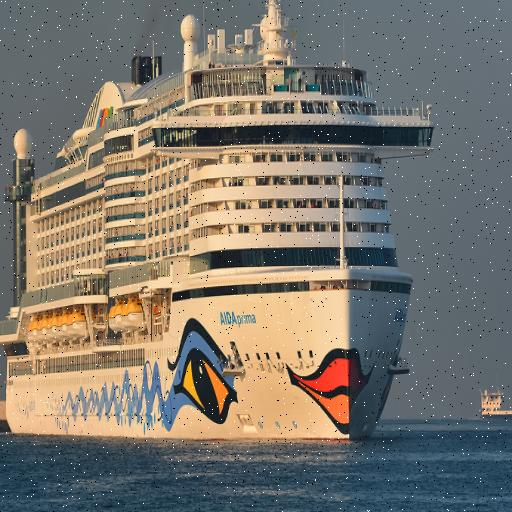cruises: (1, 1, 441, 455)
